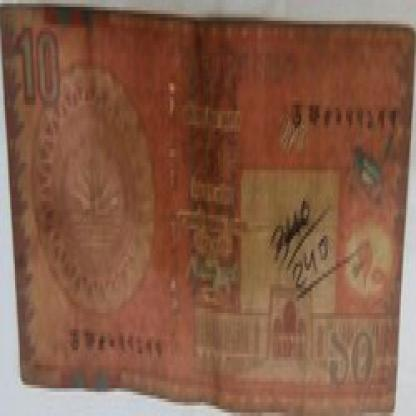Ten Taka: (10, 21, 77, 114), (322, 315, 379, 398)
